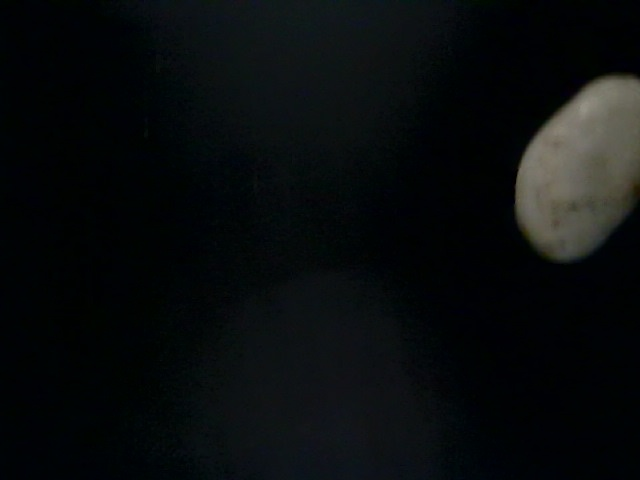QTLJ: (131, 230, 402, 473)
